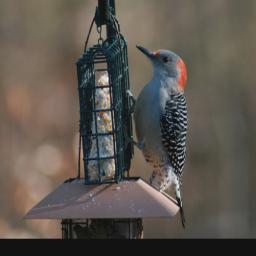Woodpecker: (123, 40, 188, 230)
